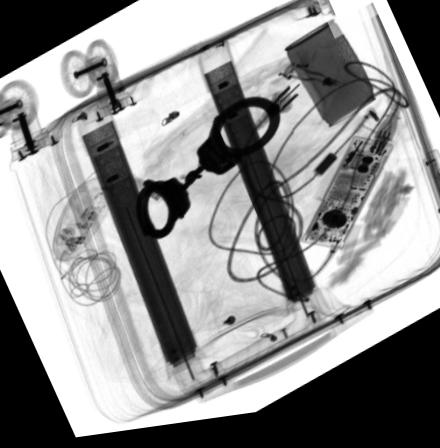HandCuffs: (130, 104, 282, 246)
